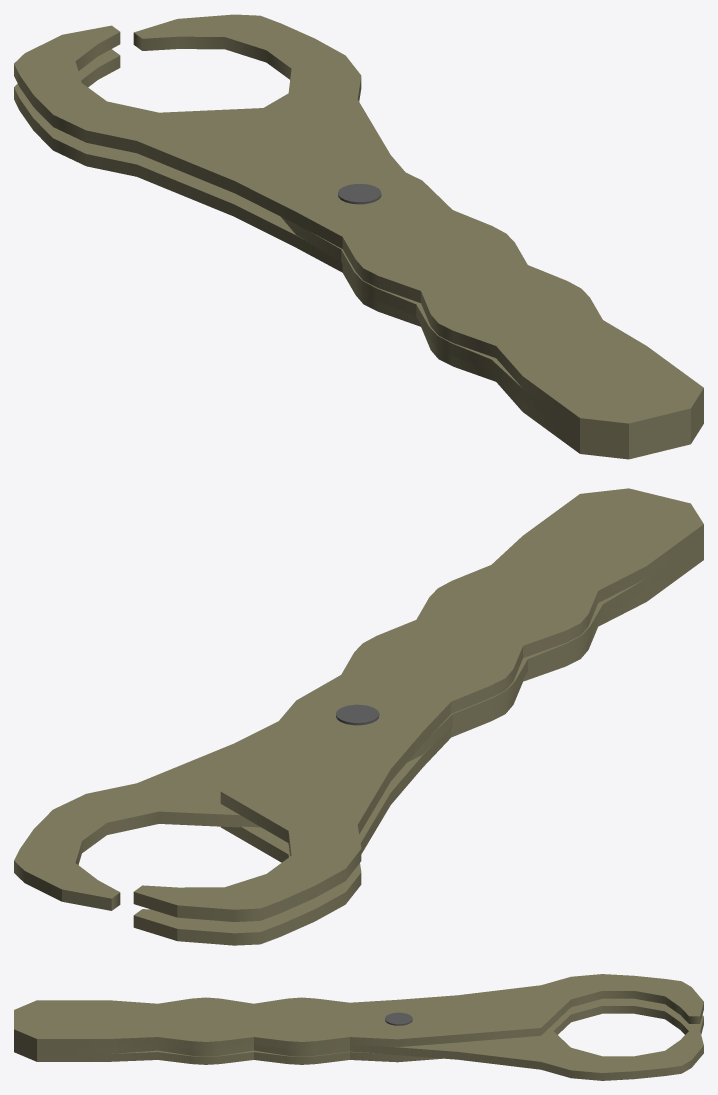
File: FusePullers.fbx
3 views of the same model, one above another, from view 1: azimuth 30°, elevation 25°; view 2: azimuth 150°, elevation 25°; view 3: azimuth 270°, elevation 25° (orthographic). The views are drawn at different scales.
Visible parts, largest first — view 1: pCube4, pCube1, pCylinder1; view 2: pCube4, pCube1, pCylinder1; view 3: pCube4, pCube1, pCylinder1.
Boxes of the visible parts, <box> form: pCube4: <box>14,25,703,459</box>; pCube1: <box>133,14,703,447</box>; pCylinder1: <box>338,184,381,204</box>; pCube4: <box>133,488,703,945</box>; pCube1: <box>14,537,703,910</box>; pCylinder1: <box>336,704,379,725</box>; pCube4: <box>14,974,703,1064</box>; pCube1: <box>14,1027,703,1080</box>; pCylinder1: <box>385,1012,412,1025</box>.
Size of the model in its own units: 14.31 by 1.93 by 45.73.
